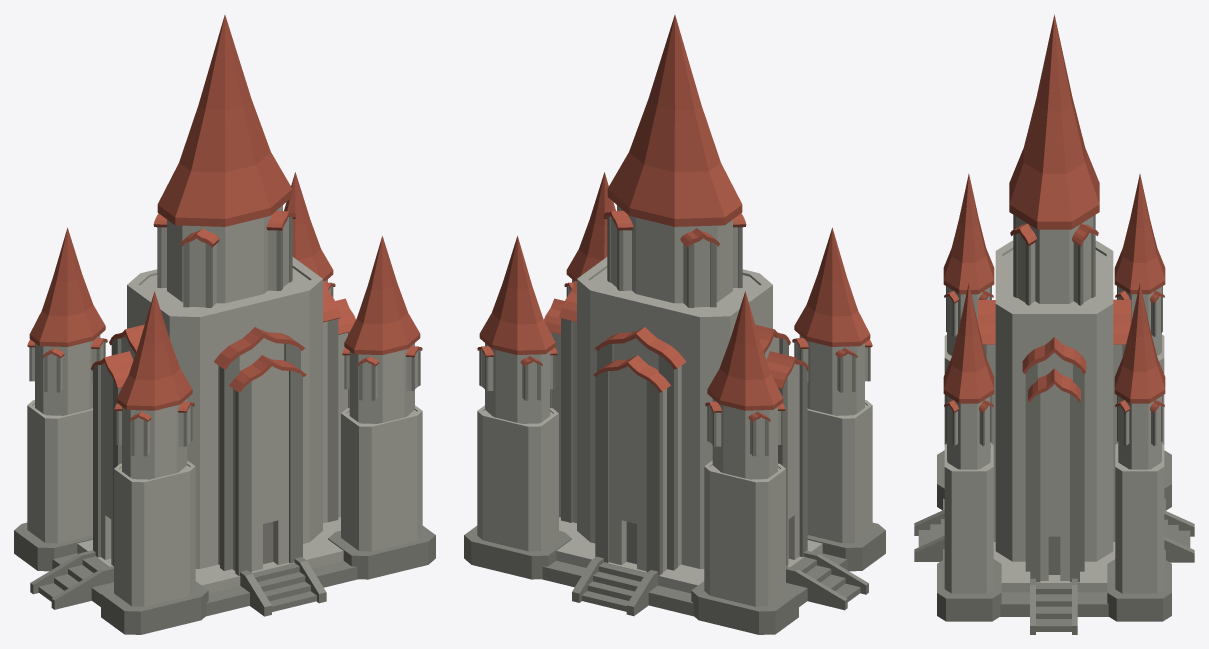
File: Temple.gltf
3 renders of one model, left to right at view 1: azimuth 30°, elevation 25°; view 2: azimuth 150°, elevation 25°; view 3: azimuth 270°, elevation 25°, orthographic.
Parts seen in each view (by area): view 1: Temple_SecondAge_Level3; view 2: Temple_SecondAge_Level3; view 3: Temple_SecondAge_Level3.
Part boxes in pixels (bbox=[...]): Temple_SecondAge_Level3: bbox=[14, 15, 435, 634]; Temple_SecondAge_Level3: bbox=[464, 15, 885, 634]; Temple_SecondAge_Level3: bbox=[914, 14, 1194, 634].
Bounding box in the file's own units: 3.68 × 5.24 × 2.49.
